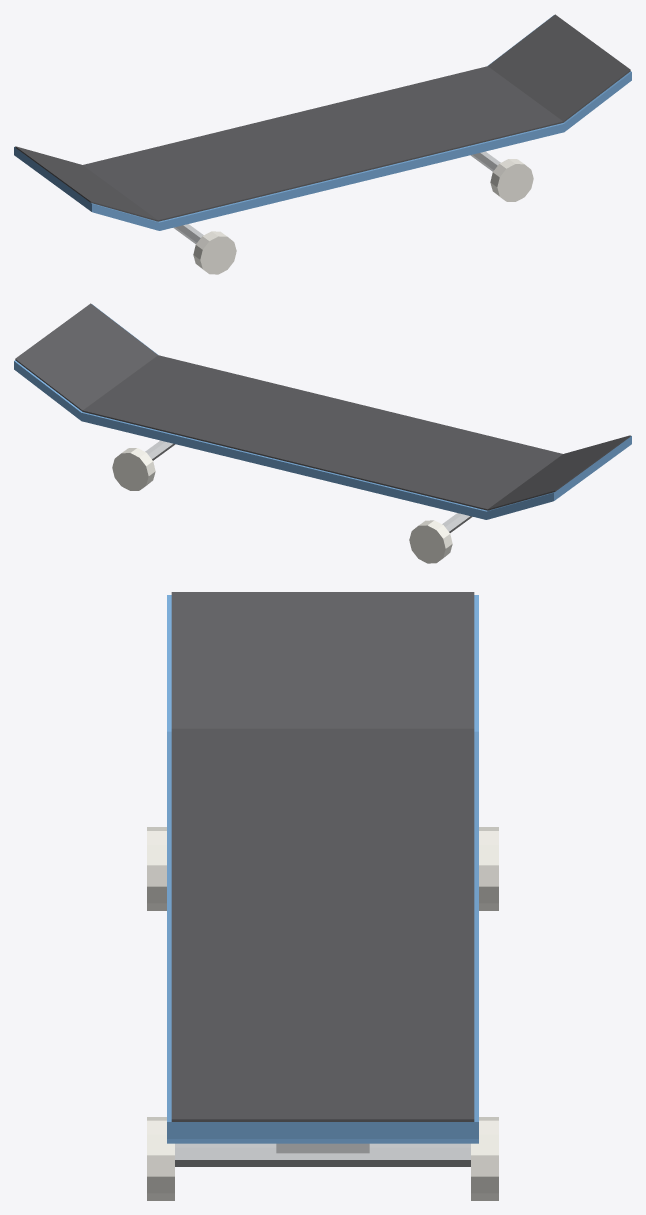
The model's file is skate_b.glb.
3 views of the same model, one above another, from view 1: azimuth 30°, elevation 25°; view 2: azimuth 150°, elevation 25°; view 3: azimuth 270°, elevation 25° (orthographic). The views are drawn at different scales.
Visible parts, largest first — view 1: skate_b_grip, skate_b_paint_b, skate_b_wheel_w, skate_b_metal; view 2: skate_b_grip, skate_b_paint_b, skate_b_wheel_w, skate_b_metal; view 3: skate_b_grip, skate_b_paint_b, skate_b_wheel_w, skate_b_metal.
Boxes of the visible parts, x1=… form: skate_b_grip: x1=15, y1=14, x2=630, y2=221; skate_b_paint_b: x1=14, y1=15, x2=631, y2=230; skate_b_wheel_w: x1=193, y1=159, x2=533, y2=274; skate_b_metal: x1=173, y1=151, x2=500, y2=243; skate_b_grip: x1=15, y1=303, x2=630, y2=510; skate_b_paint_b: x1=14, y1=304, x2=631, y2=519; skate_b_wheel_w: x1=112, y1=448, x2=452, y2=563; skate_b_metal: x1=145, y1=440, x2=472, y2=532; skate_b_grip: x1=171, y1=592, x2=474, y2=1121; skate_b_paint_b: x1=167, y1=595, x2=478, y2=1143; skate_b_wheel_w: x1=147, y1=827, x2=498, y2=1200; skate_b_metal: x1=175, y1=1143, x2=470, y2=1166.
Bounding box in the file's own units: 0.8 × 0.139 × 0.226.
